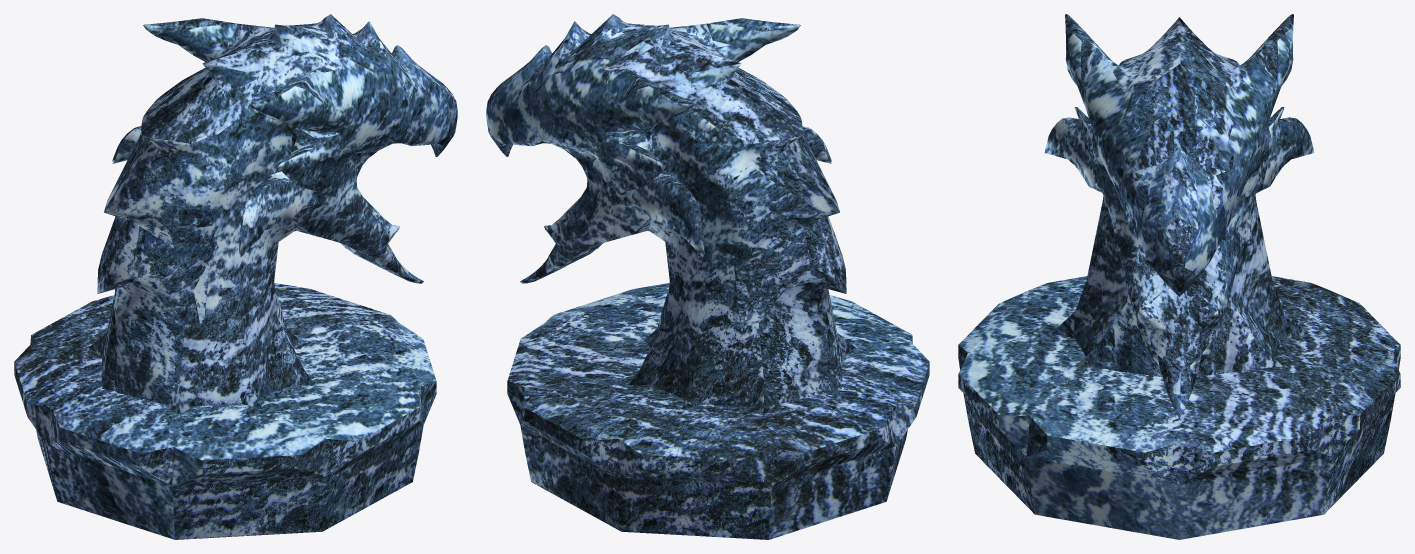
File: Queen.FBX
3 renders of one model, left to right at view 1: azimuth 30°, elevation 25°; view 2: azimuth 150°, elevation 25°; view 3: azimuth 270°, elevation 25°, orthographic. The views are drawn at different scales.
Visible parts, largest first — view 1: Queen; view 2: Queen; view 3: Queen.
Boxes of the visible parts, box(x1,y1,x2,y2) form: Queen: box(14, 14, 457, 539); Queen: box(486, 14, 929, 539); Queen: box(958, 14, 1400, 539).
Size of the model in its own units: 2062 by 2050 by 1817.
Materials: 1 (1 with a texture image).
